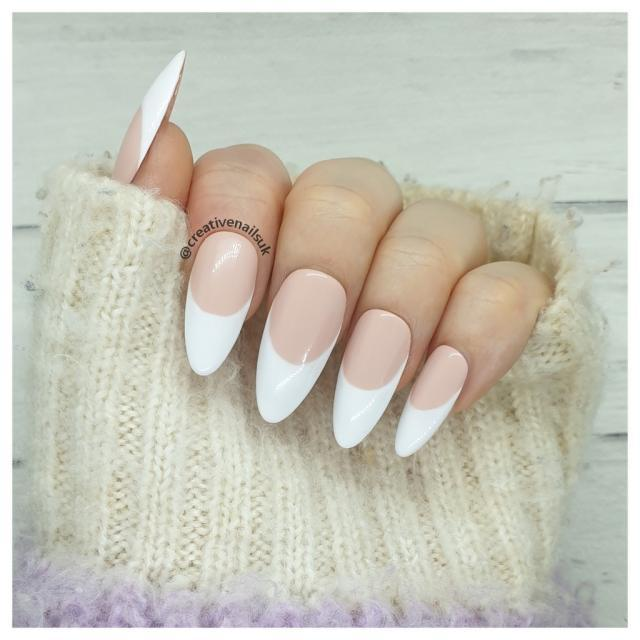Nail: (256, 269, 348, 422), (185, 231, 259, 375), (334, 309, 410, 447), (112, 52, 184, 182), (395, 346, 468, 456)
